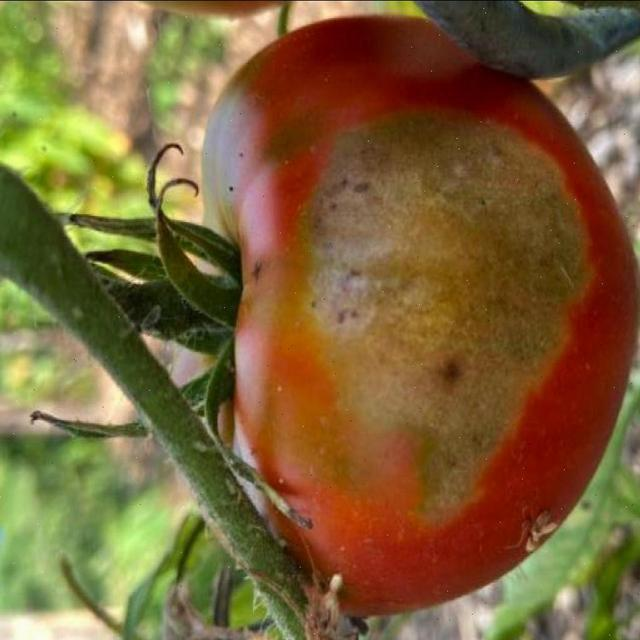Sunscald Fruit: (179, 60, 405, 349)
